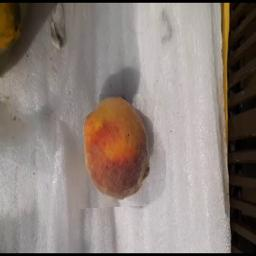Peach Semifresh: (70, 94, 167, 209)
